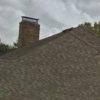Chimney: (11, 8, 38, 51)
